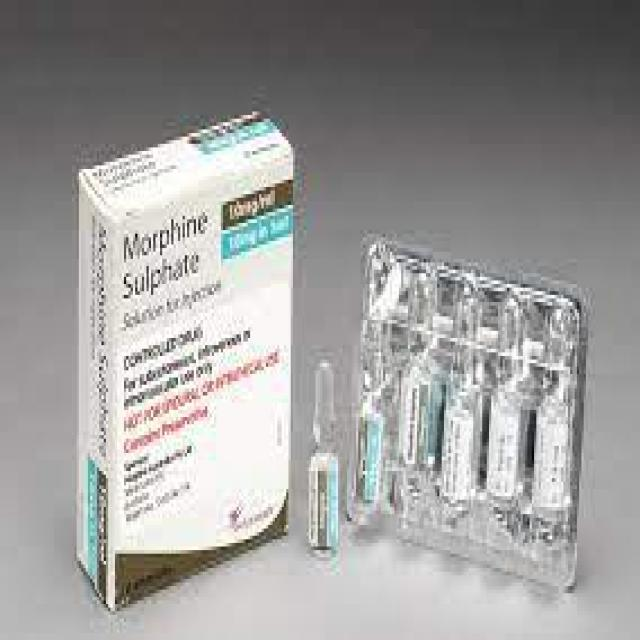B3: (295, 341, 347, 561)
